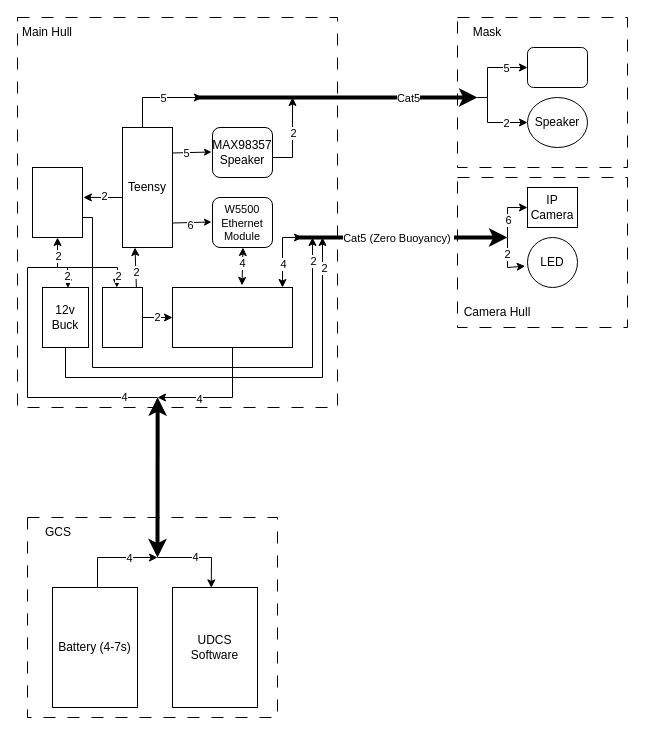
Some shapes in this 645 by 735 pixel diagram are drawn without their labels. Each missing label, with the box of its shape:
5v Buck: (102, 286, 142, 348)
Ethernet Switch: (172, 286, 292, 348)
INMP441 Mic: (526, 46, 588, 88)
LED Driver: (32, 166, 82, 238)
